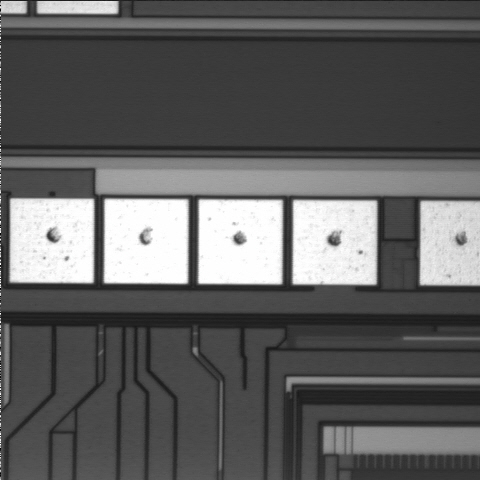pad: (198, 199, 283, 284), (10, 198, 94, 283), (104, 199, 188, 284), (293, 200, 377, 285)
